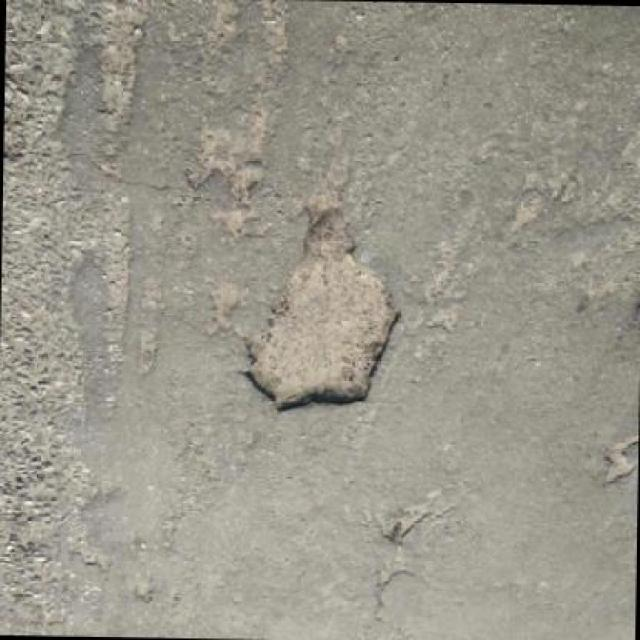pothole1: (234, 210, 406, 419), (598, 432, 637, 488), (387, 502, 430, 542)
